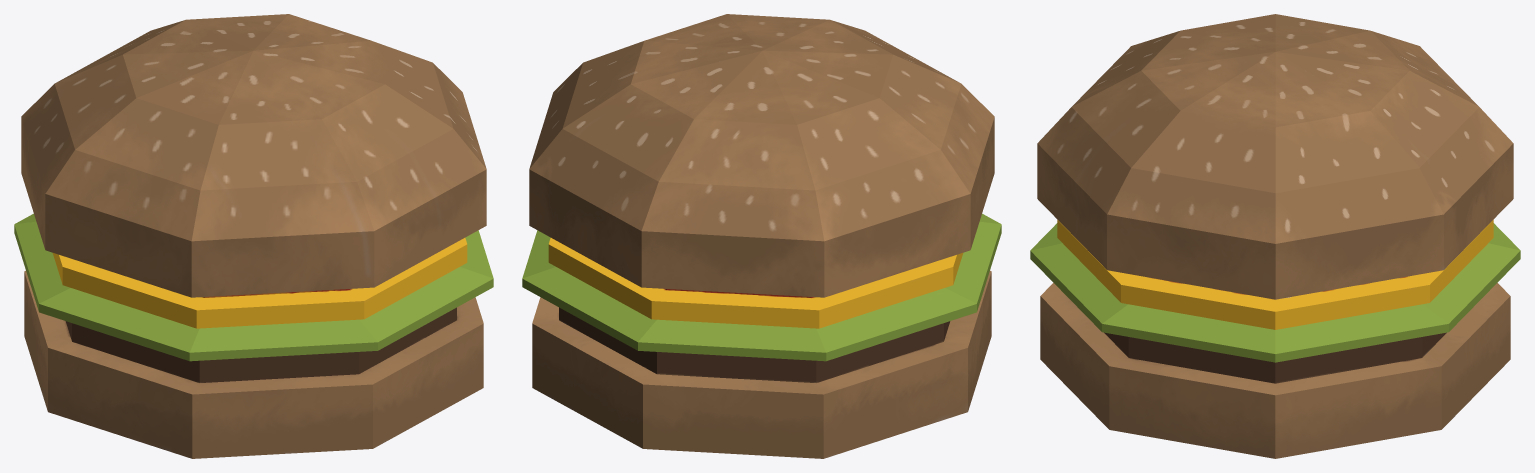
File: Burger_main.fbx
3 renders of one model, left to right at view 1: azimuth 30°, elevation 25°; view 2: azimuth 150°, elevation 25°; view 3: azimuth 270°, elevation 25°, orthographic.
Parts seen in each view (by area): view 1: Burger_Low; view 2: Burger_Low; view 3: Burger_Low.
Part boxes in pixels (x1,y1,x2,y2): Burger_Low: [14, 14, 493, 458]; Burger_Low: [522, 14, 1001, 458]; Burger_Low: [1030, 14, 1520, 458].
Size of the model in its own units: 57.27 by 39.63 by 57.27.
Materials: 1 (1 with a texture image).
